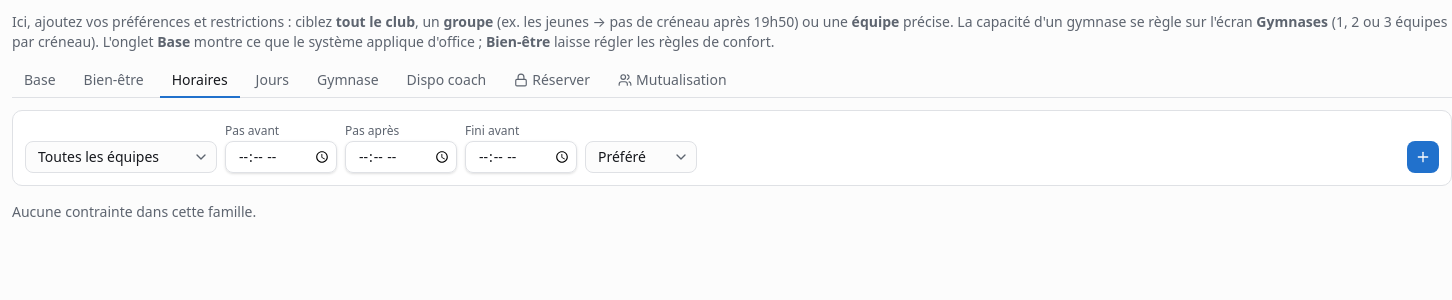
ConstraintsStep — constraint-matrix offer lock › groups coach constraints by staffing group (Salariés / Coachs-joueurs / Bénévoles)
Click the button "Dispo coach" at (446, 81), box [395,64,498,98]
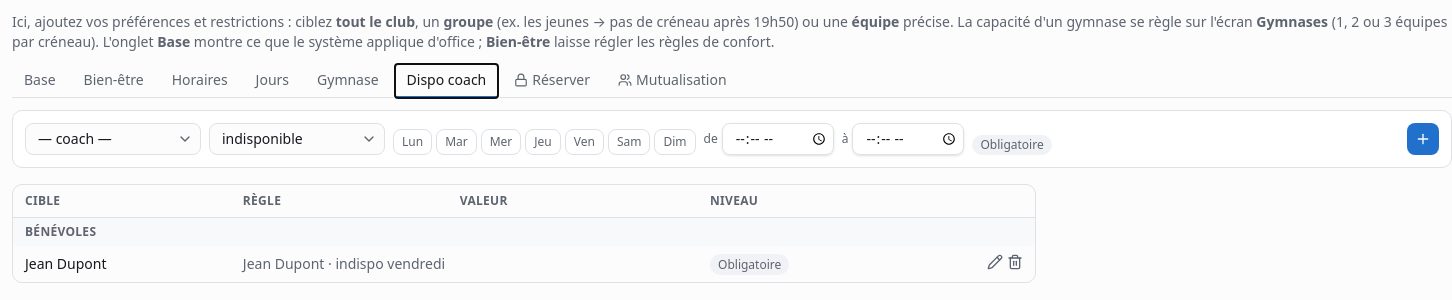
Check: the column heading with test id "constraint-section" reads "Bénévoles", box [25,223,96,240]
